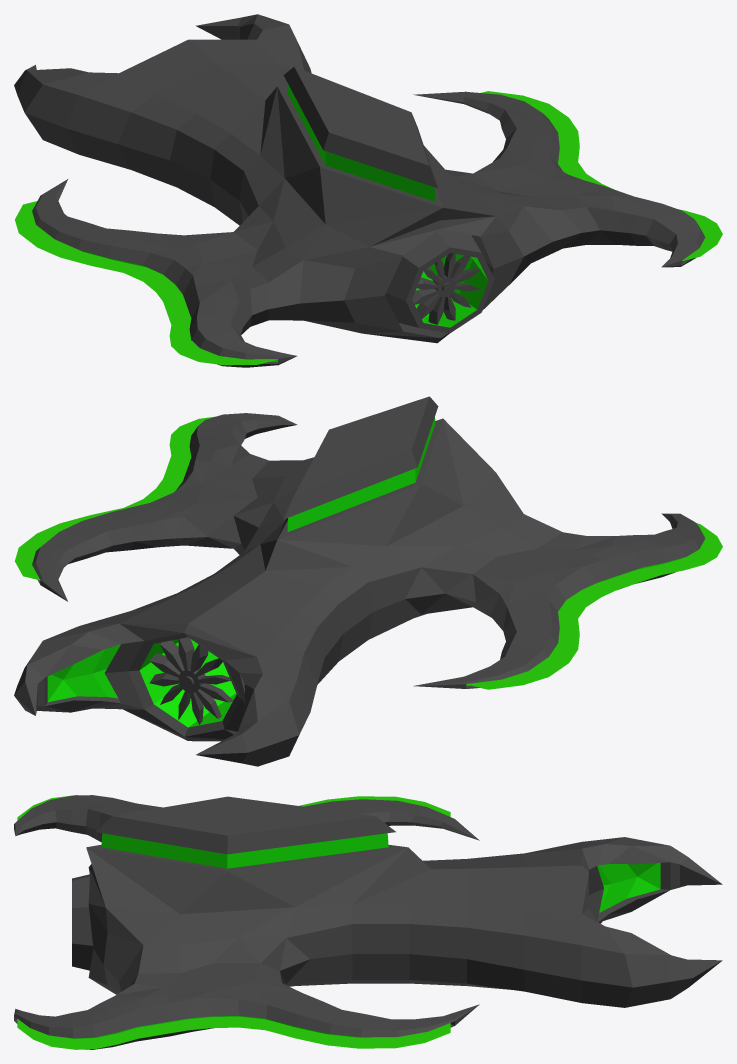
Rendered from EdgeObliterator.fbx.
3 views of the same model, one above another, from view 1: azimuth 30°, elevation 25°; view 2: azimuth 150°, elevation 25°; view 3: azimuth 270°, elevation 25° (orthographic). The views are drawn at different scales.
Parts seen in each view (by area): view 1: EdgeObliterator, Fans; view 2: EdgeObliterator, Fans; view 3: EdgeObliterator.
Boxes of the visible parts, x1=… form: EdgeObliterator: x1=14, y1=14, x2=722, y2=367; Fans: x1=412, y1=253, x2=480, y2=324; EdgeObliterator: x1=14, y1=396, x2=722, y2=766; Fans: x1=149, y1=637, x2=233, y2=724; EdgeObliterator: x1=14, y1=795, x2=722, y2=1049.
Bounding box in the file's own units: 853 × 260 × 1003.
